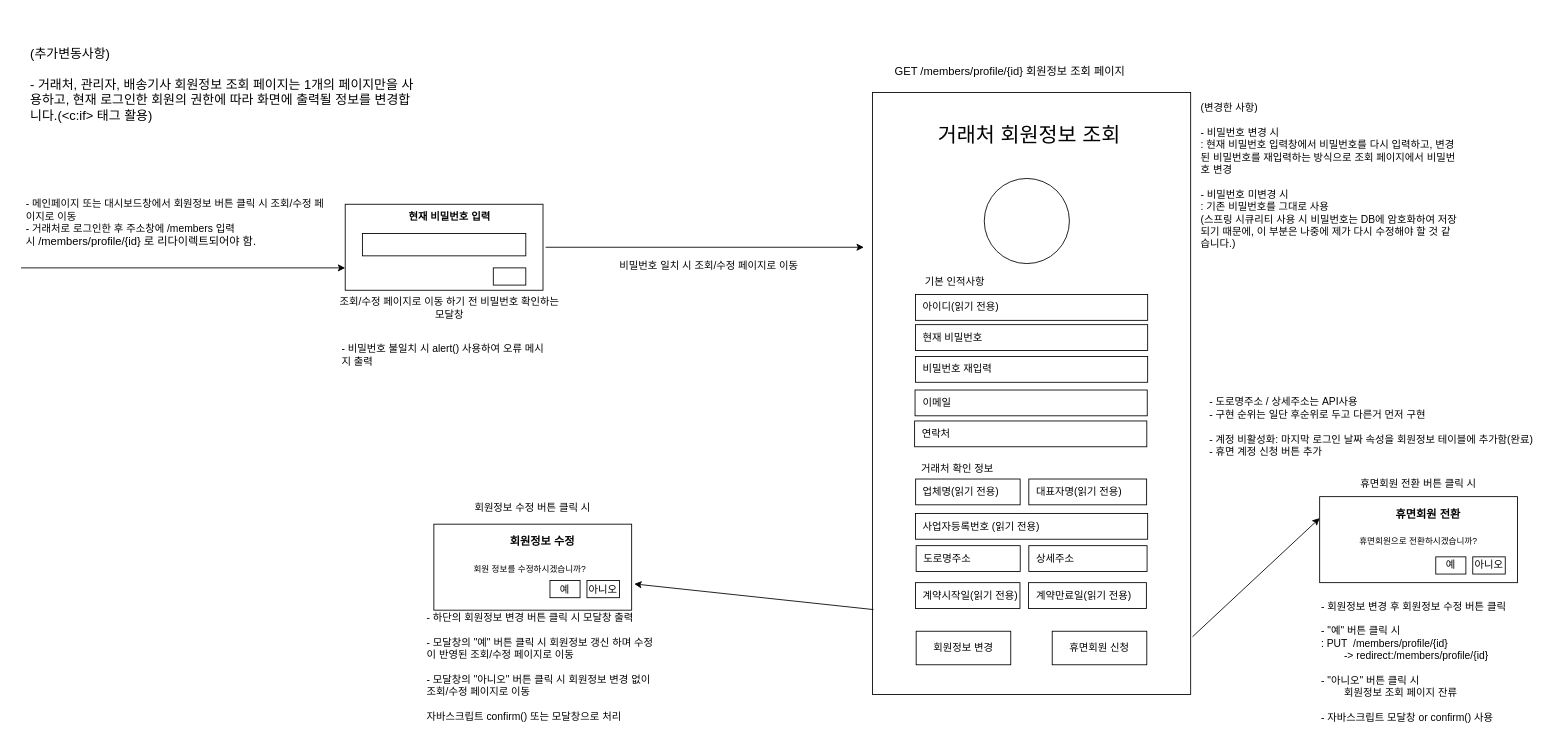
Some shapes in this 1558 by 743 pixel diagram are drawn without their labels. Here are the shapes that lost their labels. From the top down, the centre of each, then its label:
the point at 1026,221: 프로필사진 (변경가능)
the point at 444,244: 비밀번호 입력창
the point at 509,276: 확인
